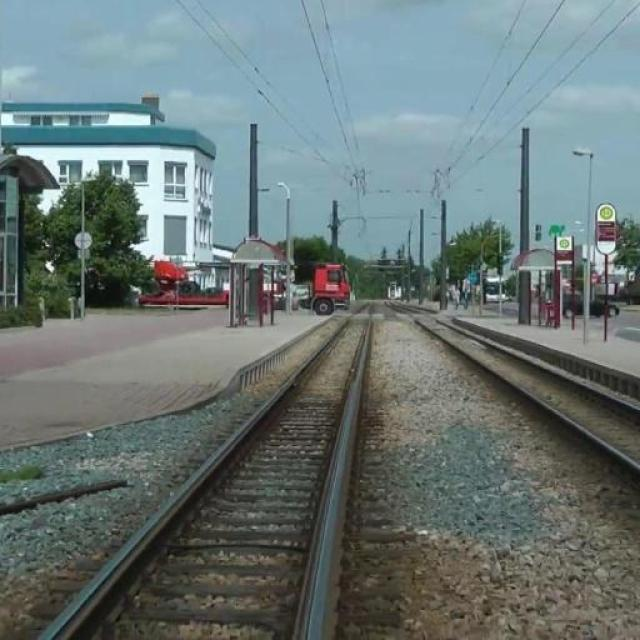vehicle: (150, 248, 354, 318), (560, 287, 622, 324)
